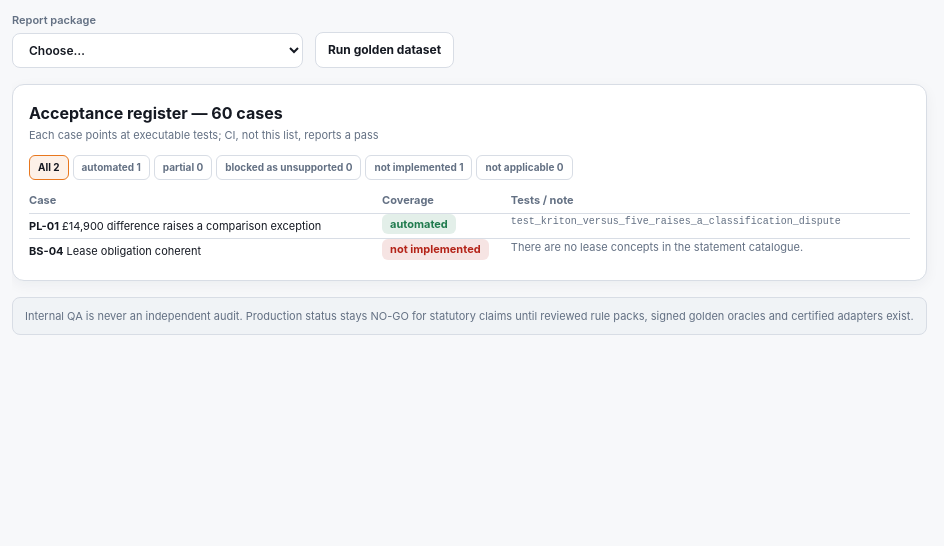
Test: Integration command centre (Document 08) › lists the register honestly and runs the golden dataset with its dispute
The image size is (944, 546).
Expected: the text "PL-01 £14,900 difference raises a comparison exception" is shown, top-left (29, 213), bottom-right (382, 238)
Click the button "not implemented 1": (419, 168) top-left (366, 155), bottom-right (472, 180)
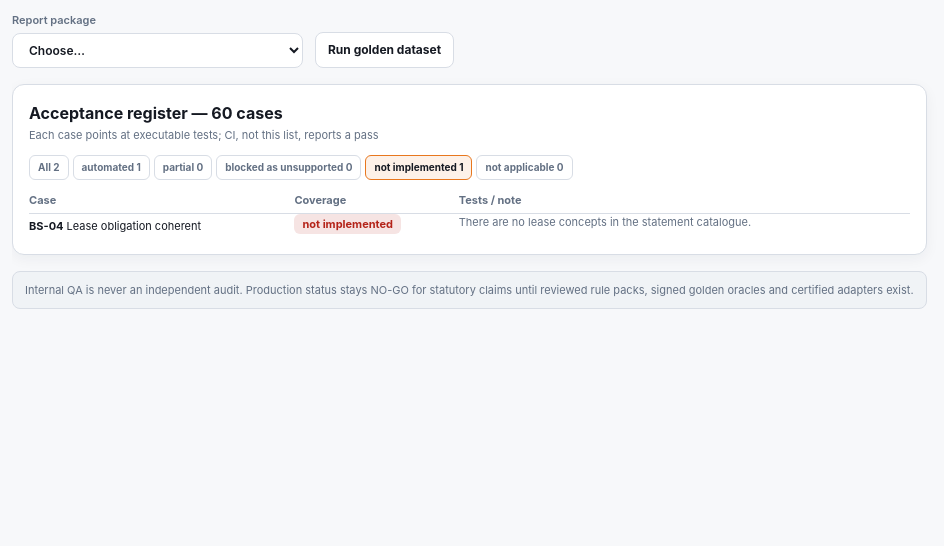
Expected: the text "There are no lease concepts in the statement catalogue." is shown, top-left (459, 213), bottom-right (910, 238)
Expected: the text "£14,900 difference" is gone
Click the button "Run golden dataset": (385, 50) top-left (315, 32), bottom-right (454, 68)
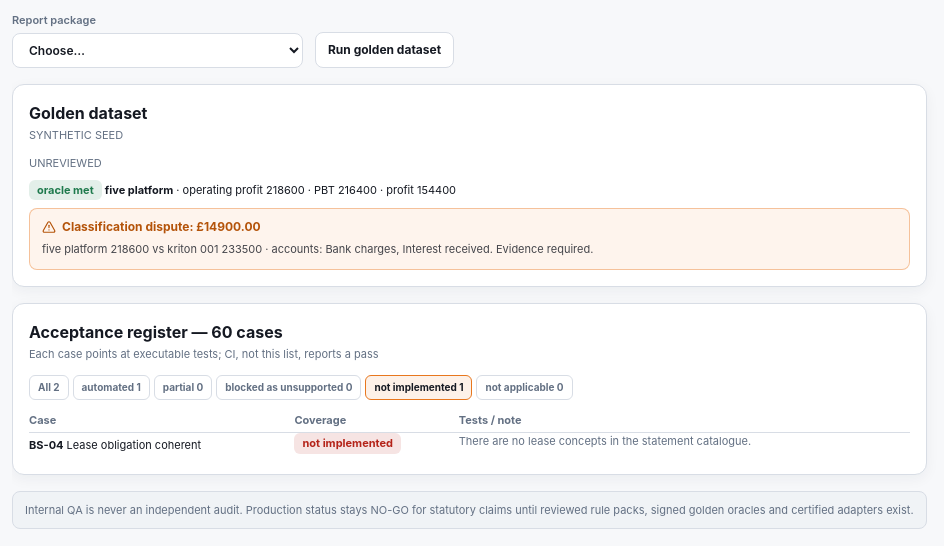
Expected: the text "Bank charges, Interest received" is shown, top-left (325, 242), bottom-right (490, 256)
